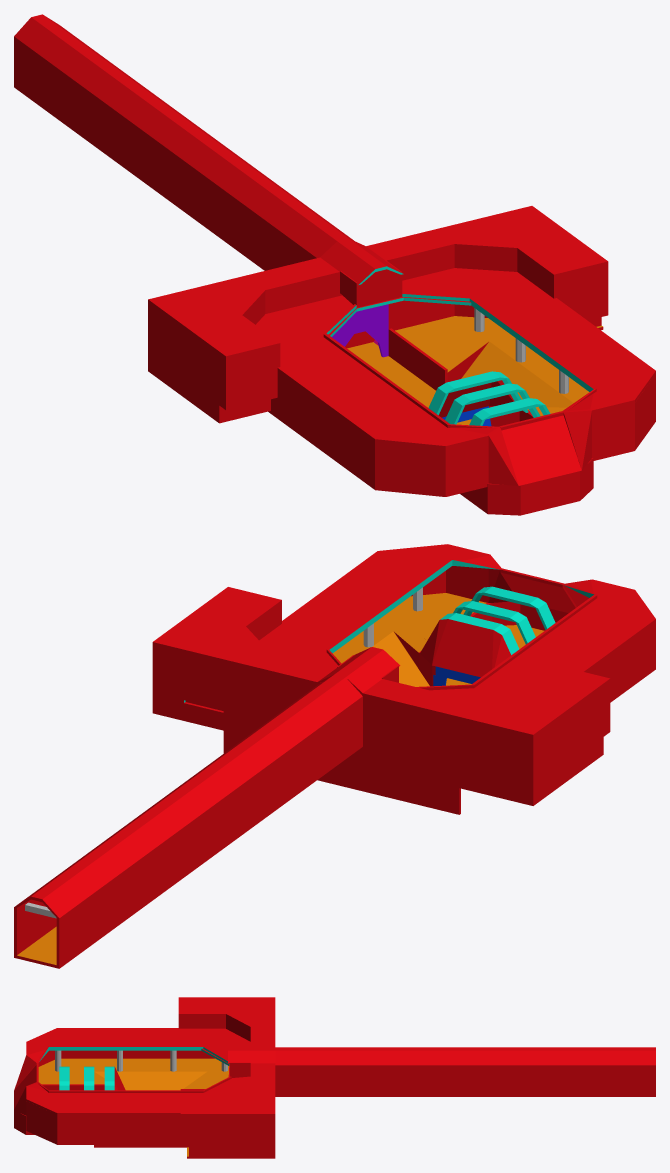
The model's file is 000_o_View.fbx.
3 views of the same model, one above another, from view 1: azimuth 30°, elevation 25°; view 2: azimuth 150°, elevation 25°; view 3: azimuth 270°, elevation 25° (orthographic). The views are drawn at different scales.
Visible parts, largest first — view 1: entity0_brush193.002; view 2: entity0_brush193.002; view 3: entity0_brush193.002.
Part boxes in pixels (bbox=[...]): entity0_brush193.002: bbox=[14, 14, 655, 515]; entity0_brush193.002: bbox=[14, 544, 655, 968]; entity0_brush193.002: bbox=[14, 997, 655, 1158].
Size of the model in its own units: 214400 by 60800 by 499200.
